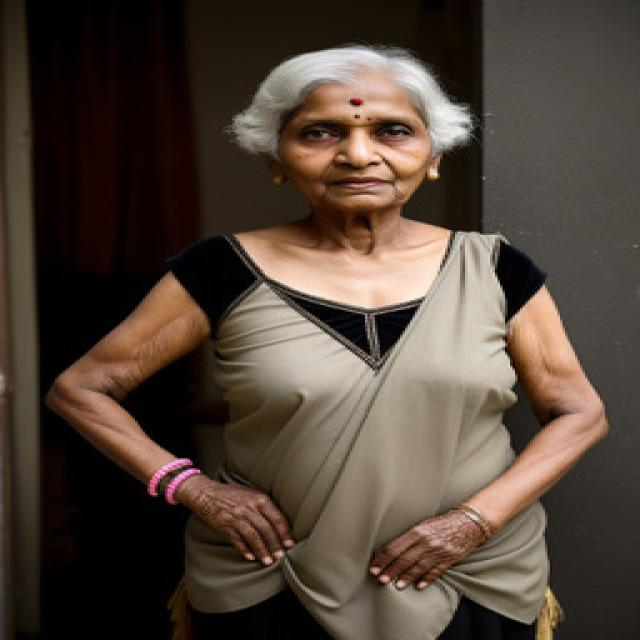Ai human 2: (52, 36, 614, 640)
